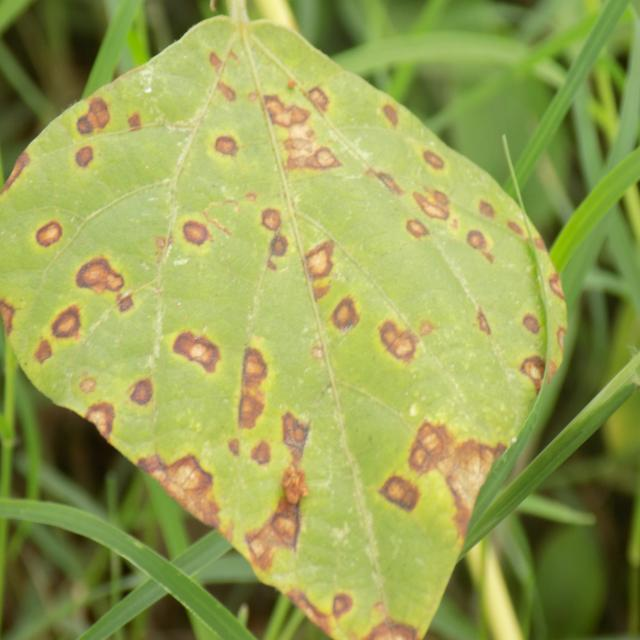Dolicos bean_cercospora leaf spot: (0, 20, 568, 640)
